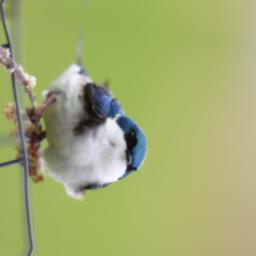Swallow: (15, 19, 161, 212)
